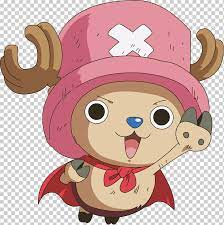chopper: (1, 1, 223, 170)
